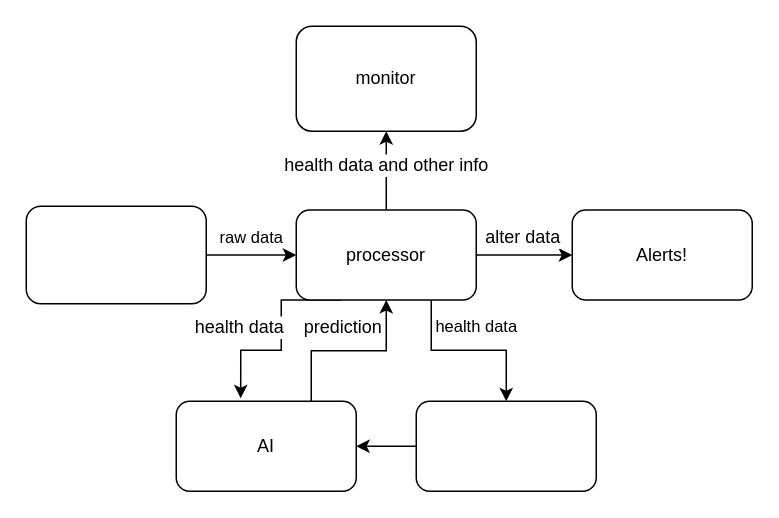
This 779x518 diagram has some shape labels left out. The shapes that lost their labels are listed below. From the top down, each one's box as (x1, y1, x2, y2) in pixels, then its label:
(25, 205, 206, 304): sensors
(415, 400, 596, 491): database
